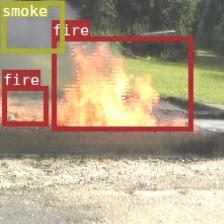fire: (51, 36, 192, 130), (1, 86, 47, 125)
smoke: (0, 0, 64, 52)
